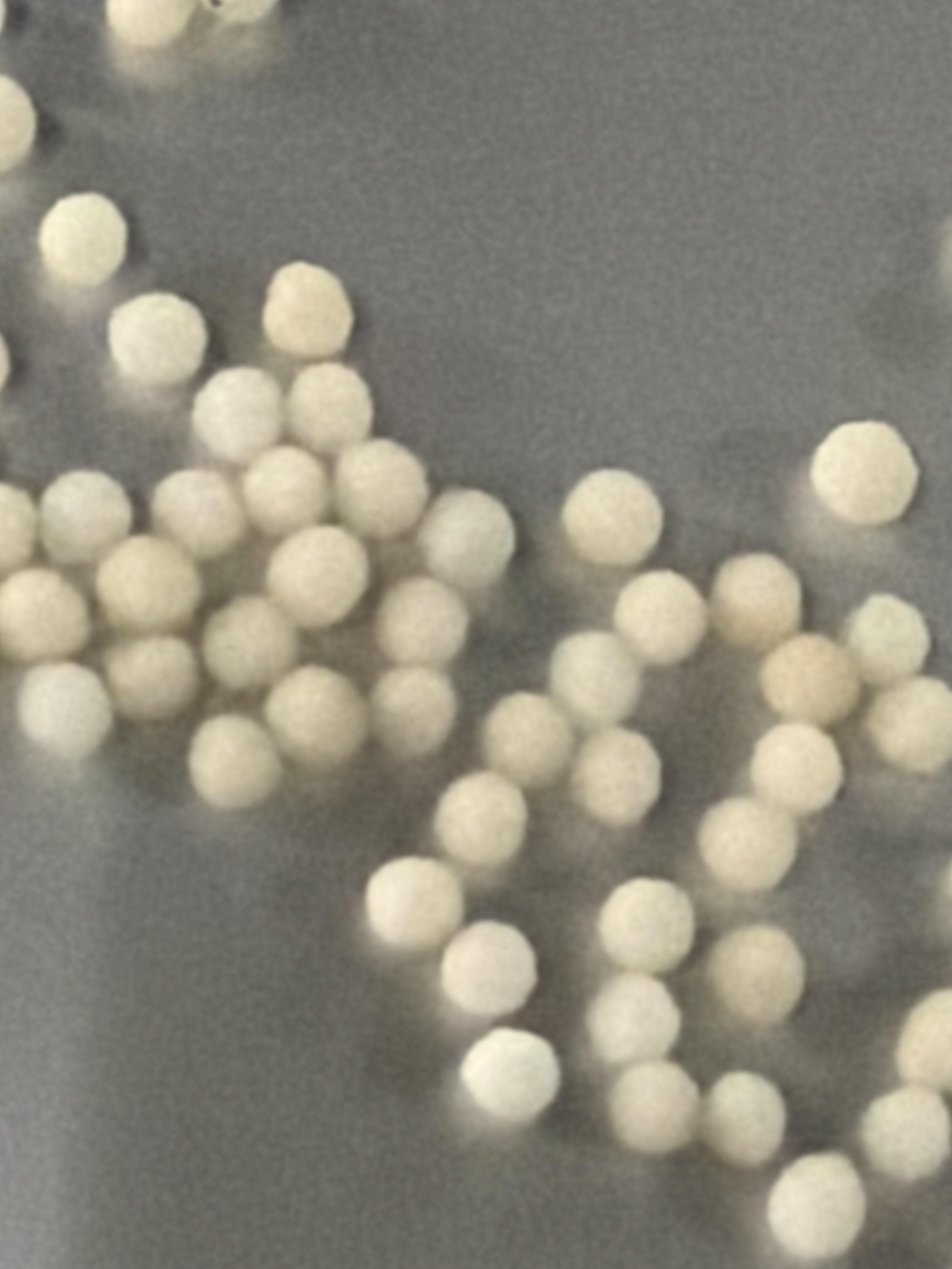pill: (810, 422, 919, 526), (265, 665, 369, 771), (768, 1152, 867, 1261), (266, 525, 369, 629), (95, 535, 202, 634), (706, 923, 805, 1027), (417, 489, 516, 592), (460, 1027, 560, 1126), (562, 469, 663, 567), (365, 856, 464, 953), (697, 797, 797, 893), (334, 439, 429, 540), (440, 920, 537, 1018), (108, 292, 208, 387), (597, 878, 695, 974), (202, 595, 298, 693), (17, 663, 113, 761), (760, 633, 860, 727), (433, 771, 528, 868), (570, 728, 662, 828), (710, 553, 802, 652), (548, 630, 640, 729), (192, 366, 283, 466), (188, 714, 282, 810), (150, 469, 248, 561), (481, 692, 574, 788), (614, 570, 707, 666), (860, 1086, 952, 1183), (263, 261, 353, 360), (39, 470, 133, 564), (750, 722, 843, 816), (608, 1061, 700, 1156), (585, 972, 681, 1063), (864, 676, 952, 775), (0, 568, 91, 663), (38, 193, 128, 287), (375, 576, 468, 666), (701, 1071, 787, 1168), (842, 594, 931, 687), (104, 636, 200, 722), (370, 666, 458, 759), (241, 446, 330, 537), (286, 363, 373, 455), (895, 989, 952, 1093), (107, 0, 197, 49), (0, 75, 37, 174), (0, 482, 38, 576), (201, 0, 280, 25)
